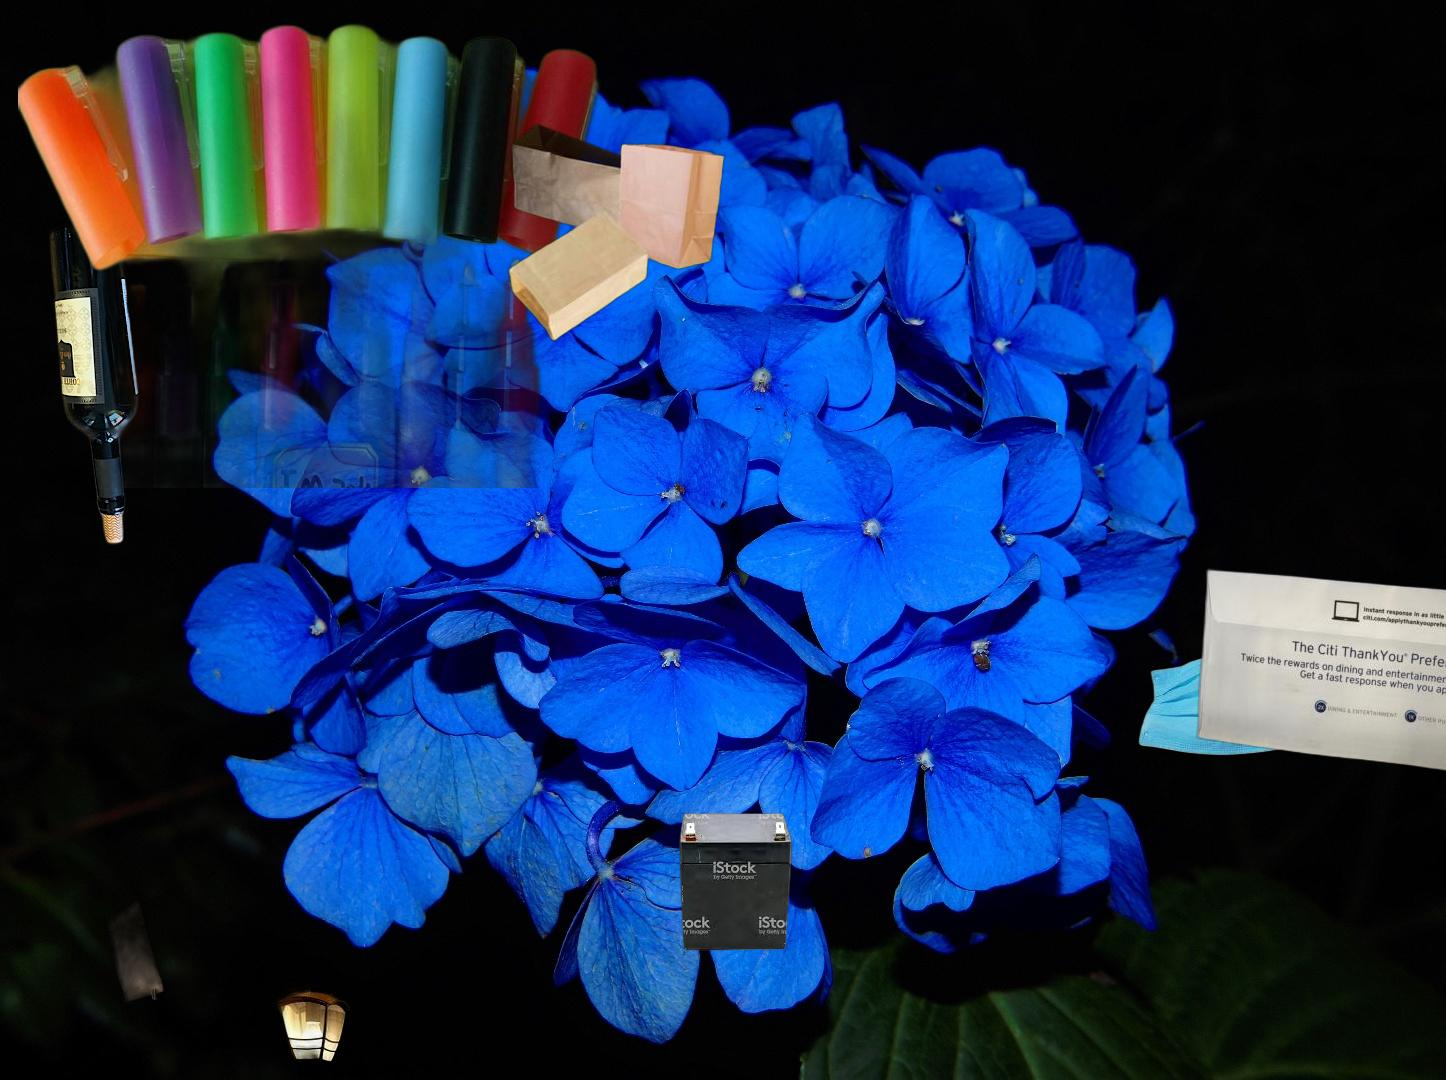battery: (676, 810, 794, 953)
glass: (45, 214, 143, 550)
paper: (1192, 566, 1446, 792)
paper-bag: (69, 894, 350, 1080), (506, 121, 729, 341)
penholder: (18, 19, 618, 488)
trash: (1096, 650, 1360, 758)
